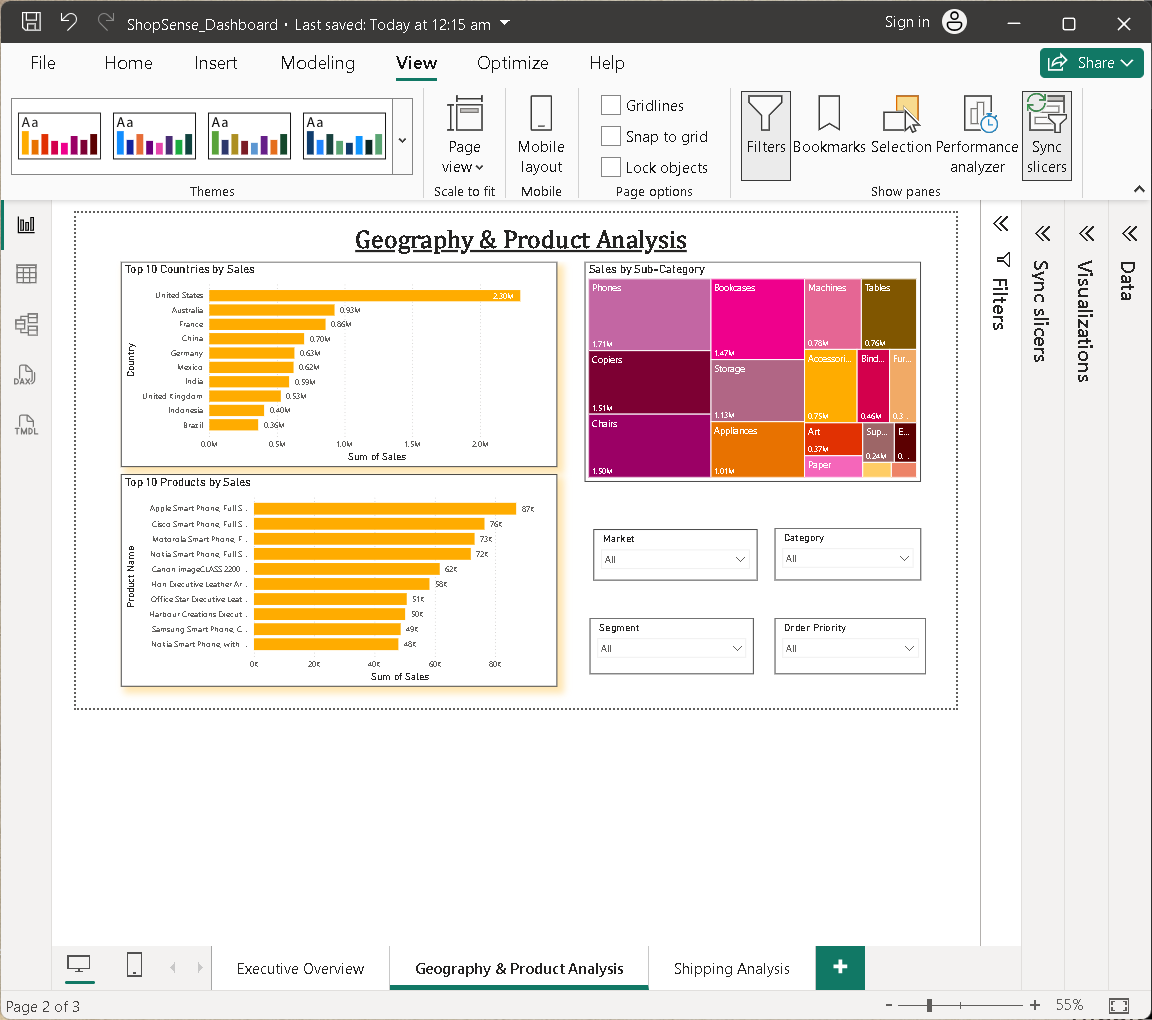

Layout of this report page (visuals, bound fields, positions):
{"tool":"powerbi","page":{"name":"Geography & Product Analysis","canvas":[1280,720],"ordinal":1},"visuals":[{"type":"clusteredBarChart","title":"Top 10 Countries by Sales","fields":{"Category":["Global_Superstore_Cleaned.Country"],"Y":["Sum(Global_Superstore_Cleaned.Sales)"]},"box":[65.5,70.9,634.5,298.2],"z":0},{"type":"clusteredBarChart","title":"Top 10 Products by Sales","fields":{"Category":["Global_Superstore_Cleaned.Product Name"],"Y":["Sum(Global_Superstore_Cleaned.Sales)"]},"box":[65.5,380,634.5,309.1],"z":1000},{"type":"treemap","title":"Sales by Sub-Category","fields":{"Values":["Sum(Global_Superstore_Cleaned.Sales)"],"Group":["Global_Superstore_Cleaned.Sub-Category"]},"box":[740,70.9,489.1,320],"z":2000},{"type":"slicer","fields":{"Values":["Global_Superstore_Cleaned.Market"]},"box":[752.7,460,238.2,74.5],"z":3000},{"type":"slicer","fields":{"Values":["Global_Superstore_Cleaned.Category"]},"box":[1016.4,458.2,212.7,76.4],"z":4000},{"type":"slicer","fields":{"Values":["Global_Superstore_Cleaned.Segment"]},"box":[747.3,589.1,238.2,81.8],"z":5000},{"type":"slicer","fields":{"Values":["Global_Superstore_Cleaned.Order Priority"]},"box":[1016.4,589.1,220,81.8],"z":6000},{"type":"textbox","box":[65.5,14.5,1163.6,56.4],"z":7000}]}

Visuals, with their boxes on the page's 1280x720 design canvas (x1, y1, x2, y2). These are canvas units, not pixel positions in the 1152x1020 screenshot, which may show the page scaled, cropped or inside an application window:
"Top 10 Countries by Sales" clusteredBarChart: {"left": 66, "top": 71, "right": 700, "bottom": 369}
"Top 10 Products by Sales" clusteredBarChart: {"left": 66, "top": 380, "right": 700, "bottom": 689}
"Sales by Sub-Category" treemap: {"left": 740, "top": 71, "right": 1229, "bottom": 391}
slicer - Global_Superstore_Cleaned.Market: {"left": 753, "top": 460, "right": 991, "bottom": 534}
slicer - Global_Superstore_Cleaned.Category: {"left": 1016, "top": 458, "right": 1229, "bottom": 535}
slicer - Global_Superstore_Cleaned.Segment: {"left": 747, "top": 589, "right": 986, "bottom": 671}
slicer - Global_Superstore_Cleaned.Order Priority: {"left": 1016, "top": 589, "right": 1236, "bottom": 671}
textbox: {"left": 66, "top": 14, "right": 1229, "bottom": 71}
